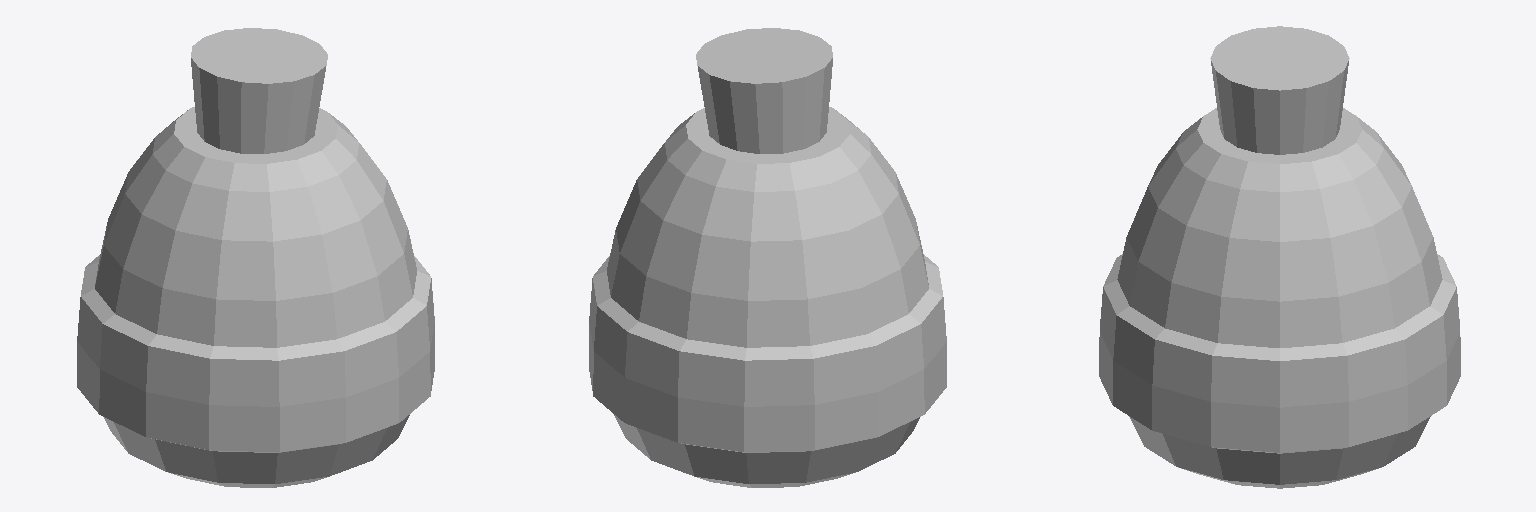
File: Potion_1.obj
3 renders of one model, left to right at view 1: azimuth 30°, elevation 25°; view 2: azimuth 150°, elevation 25°; view 3: azimuth 270°, elevation 25°, orthographic.
Visible parts, largest first — view 1: Potion_1_Cylinder.049; view 2: Potion_1_Cylinder.049; view 3: Potion_1_Cylinder.049.
Part boxes in pixels (bbox=[...]): Potion_1_Cylinder.049: bbox=[77, 28, 434, 487]; Potion_1_Cylinder.049: bbox=[589, 28, 946, 487]; Potion_1_Cylinder.049: bbox=[1099, 26, 1460, 488].
Size of the model in its own units: 0.1139 by 0.1404 by 0.1139.